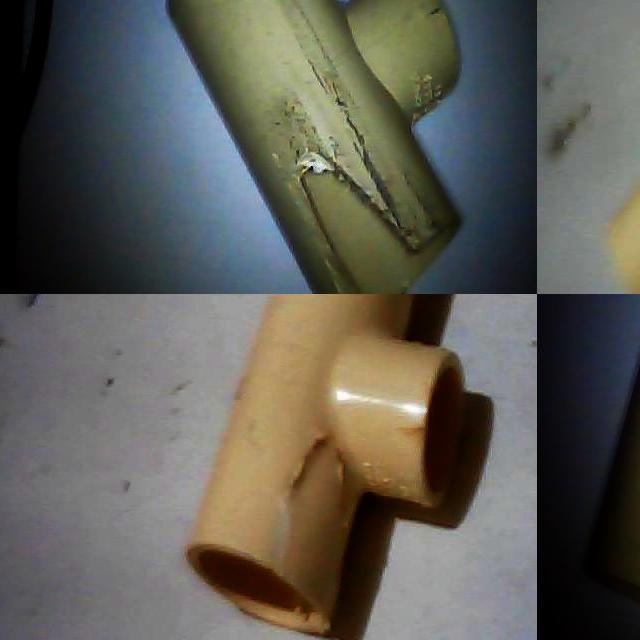Defective: (277, 418, 344, 612), (302, 172, 407, 294)
T Joint: (185, 294, 466, 638), (166, 0, 463, 294), (582, 354, 640, 607)
